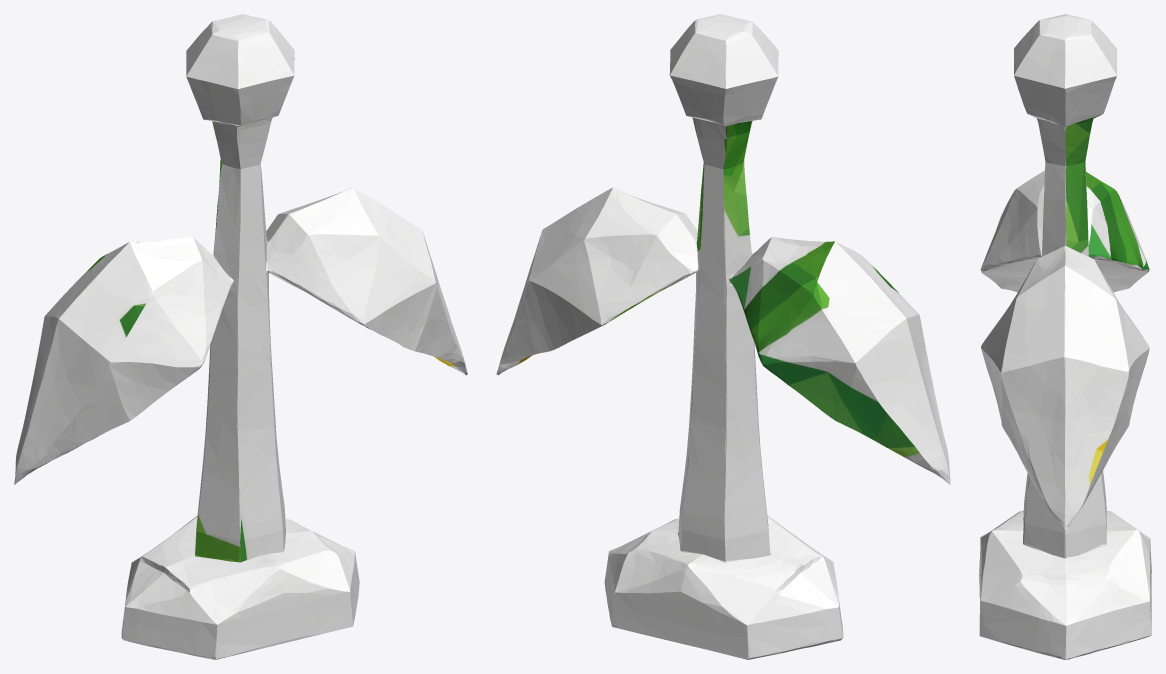
Rendered from SunBloom_seedling.obj.
3 renders of one model, left to right at view 1: azimuth 30°, elevation 25°; view 2: azimuth 150°, elevation 25°; view 3: azimuth 270°, elevation 25°, orthographic.
Visible parts, largest first — view 1: SunBloom_seedling; view 2: SunBloom_seedling; view 3: SunBloom_seedling.
Boxes of the visible parts, x1,y1,x2,y2 form: SunBloom_seedling: (14, 14, 467, 659); SunBloom_seedling: (496, 14, 950, 659); SunBloom_seedling: (979, 14, 1151, 659).
Bounding box in the file's own units: 0.9712 × 1.2 × 0.3249.
